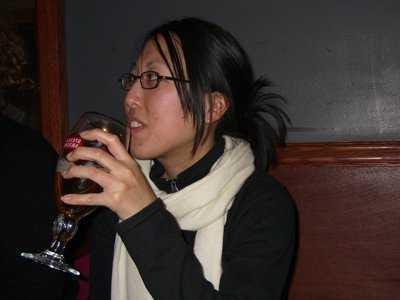Drunk: (119, 51, 198, 162)
